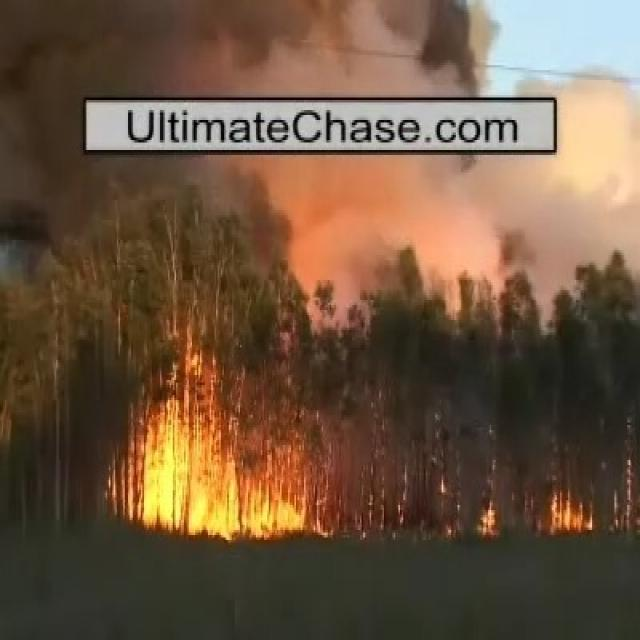fire: (130, 375, 303, 530)
smoke: (14, 2, 491, 95), (242, 154, 583, 252)
